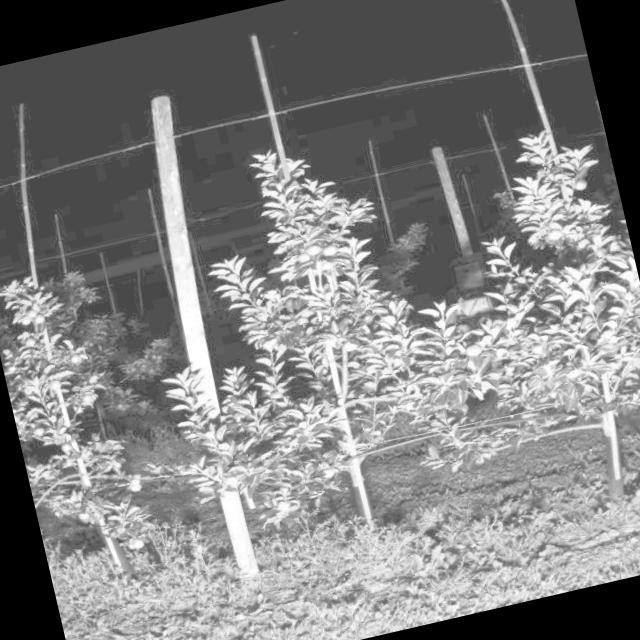Tree: (190, 132, 463, 552), (447, 119, 640, 512), (0, 258, 177, 591)
